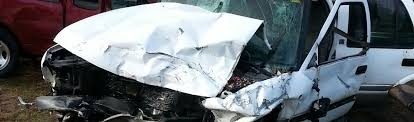Smashed: (41, 14, 305, 122)
